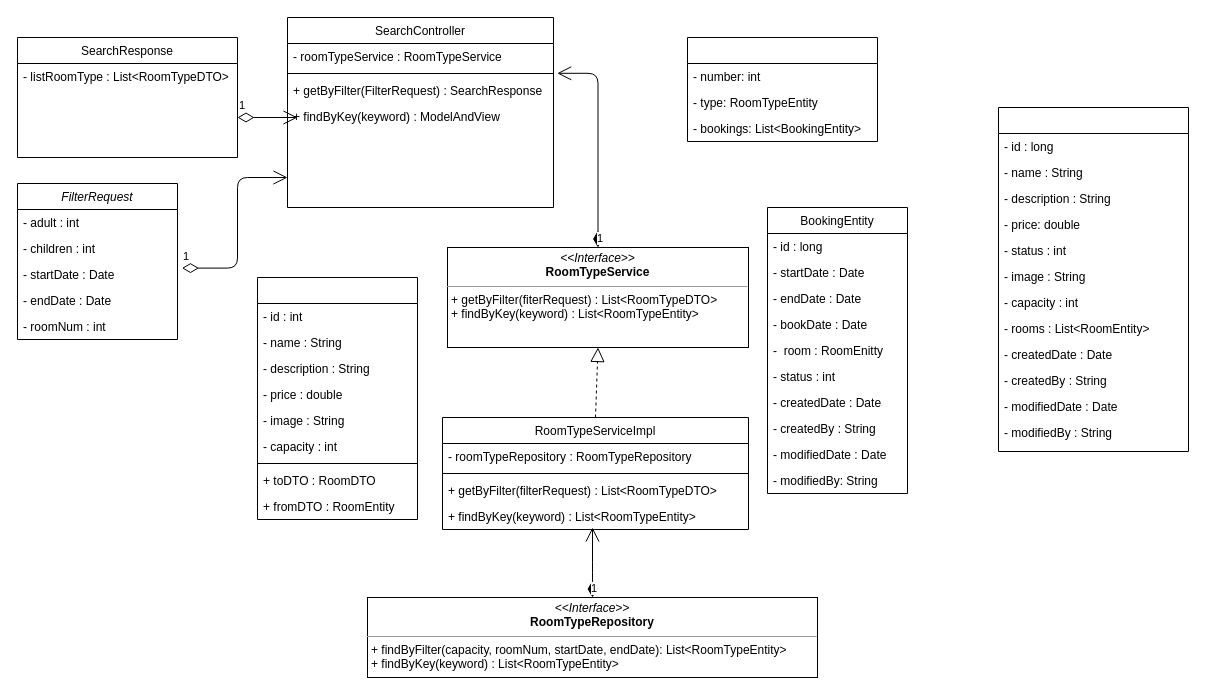
Some shapes in this 1206 by 695 pixel diagram are drawn without their labels. Each missing label, with the box of its shape:
RoomEntity: (686, 36, 878, 142)
RoomTypeDTO: (256, 276, 418, 520)
RoomTypeEntity: (998, 106, 1188, 452)
